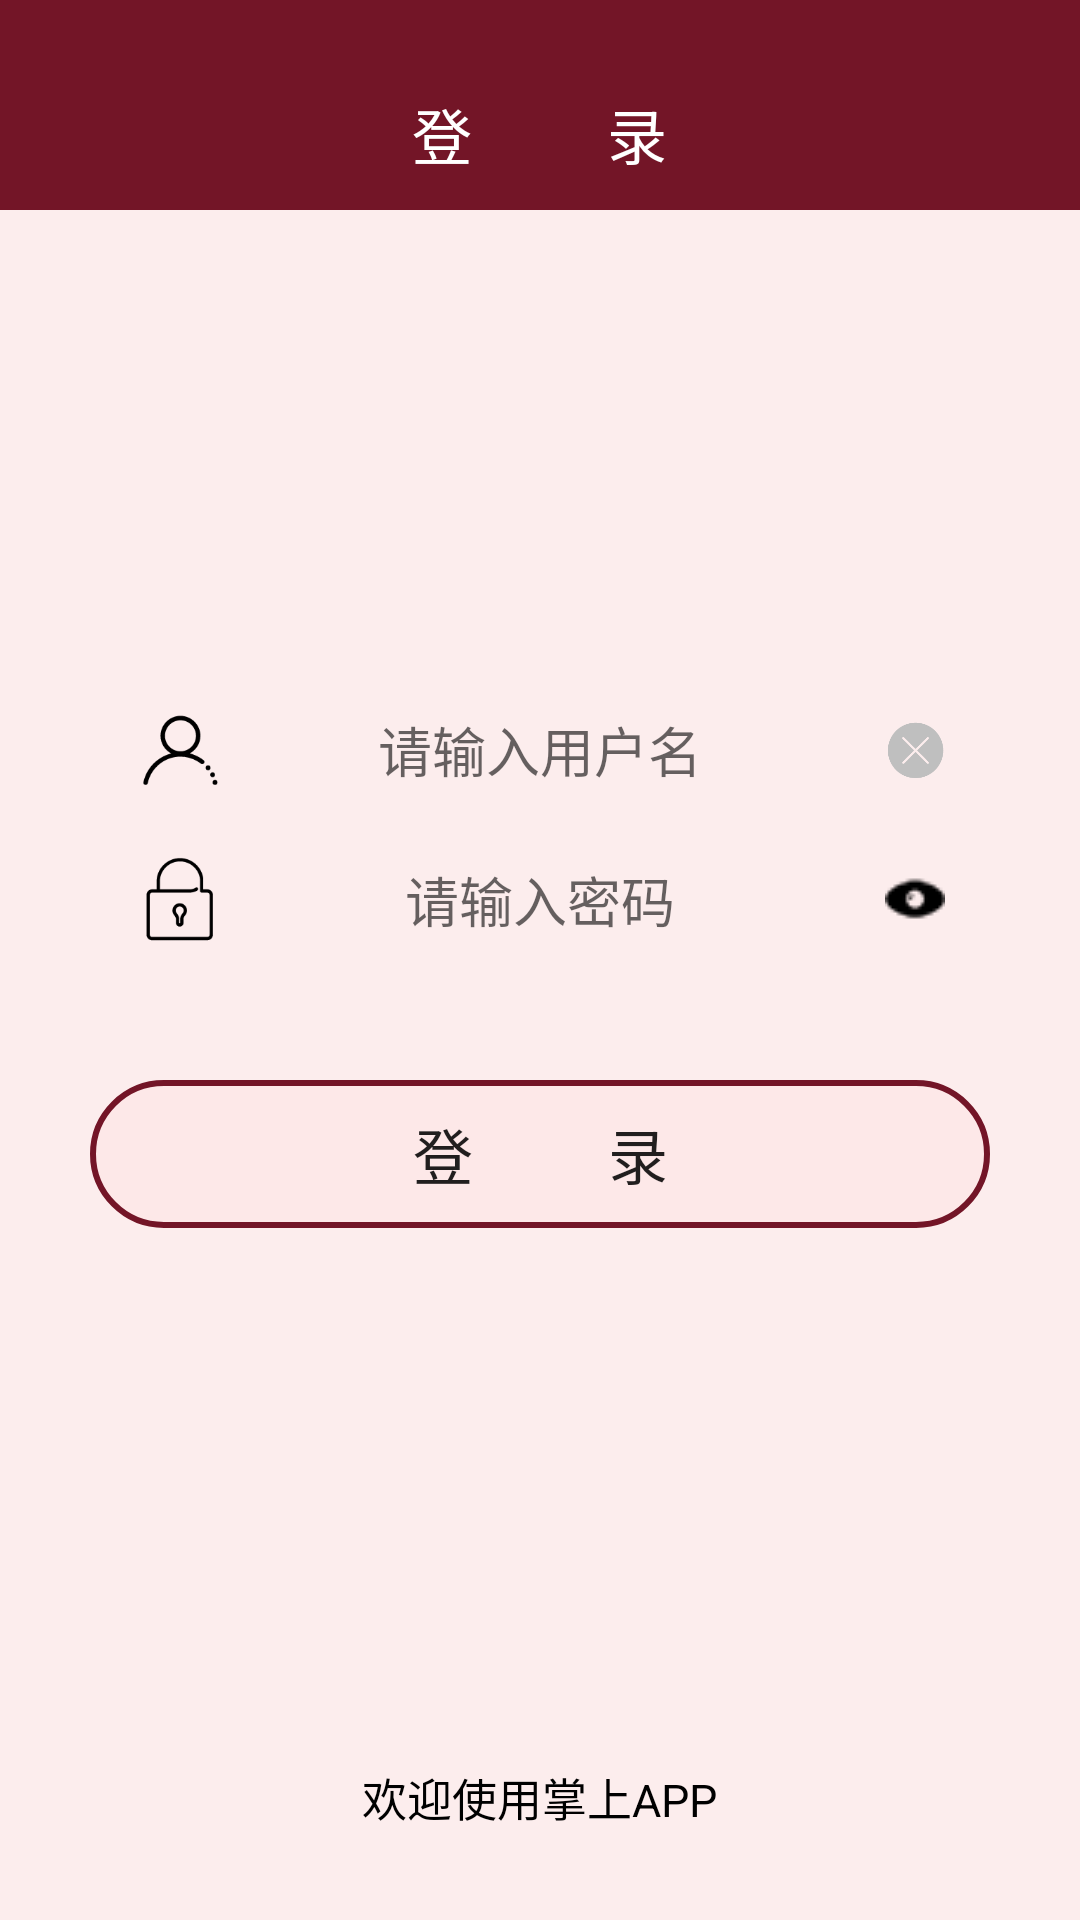

Icons on this 1080px x 1920px Android screen, each with its box as (x1=x1, y1=y1, x2=x2, y2=y2):
clear: (x1=888, y1=723, x2=943, y2=778)
password: (x1=146, y1=858, x2=213, y2=941)
user: (x1=143, y1=715, x2=218, y2=785)
